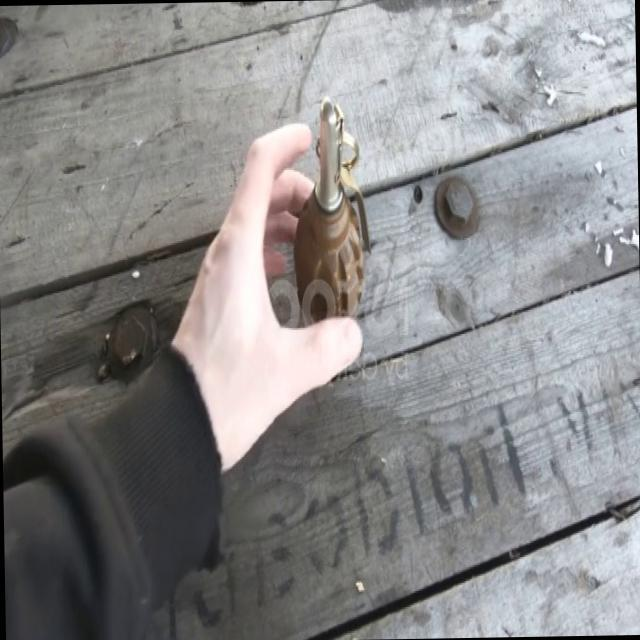grenade: (288, 99, 374, 349)
